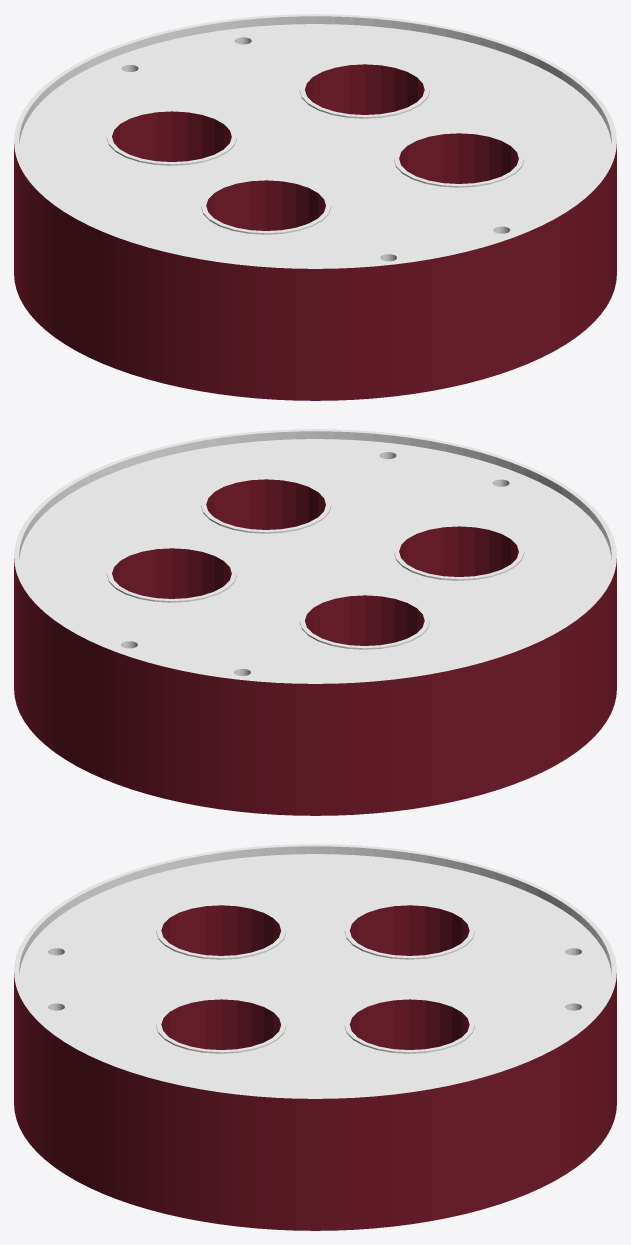
File: TOP_colour.dae
The picture shows the model from 3 angles, top to bottom: view 1: azimuth 30°, elevation 25°; view 2: azimuth 150°, elevation 25°; view 3: azimuth 270°, elevation 25°; orthographic projection.
Parts seen in each view (by area): view 1: TOP; view 2: TOP; view 3: TOP.
Part boxes in pixels (x1,y1,x2,y2): TOP: (14, 14, 616, 400); TOP: (14, 429, 616, 815); TOP: (14, 844, 616, 1230).
Size of the model in its own units: 0.352 by 0.352 by 0.085.
